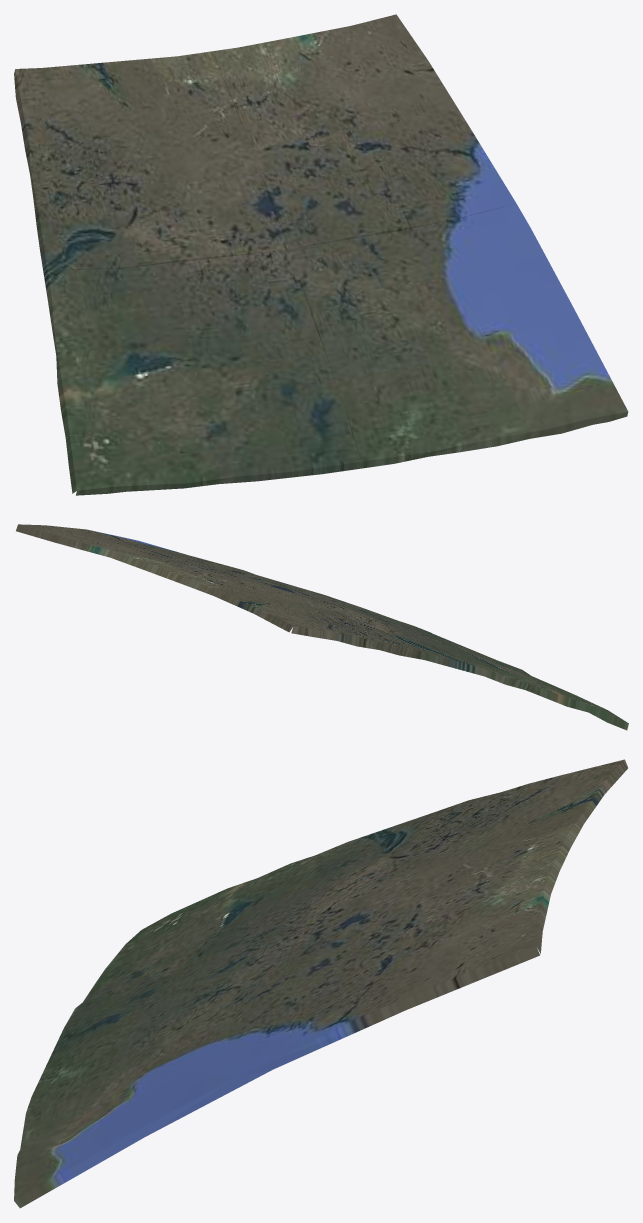
3 views of the same model, one above another, from view 1: azimuth 30°, elevation 25°; view 2: azimuth 150°, elevation 25°; view 3: azimuth 270°, elevation 25° (orthographic). The views are drawn at different scales.
Size of the model in its own units: 1376285 by 616906 by 1306210.
1 material, 1 textured.
